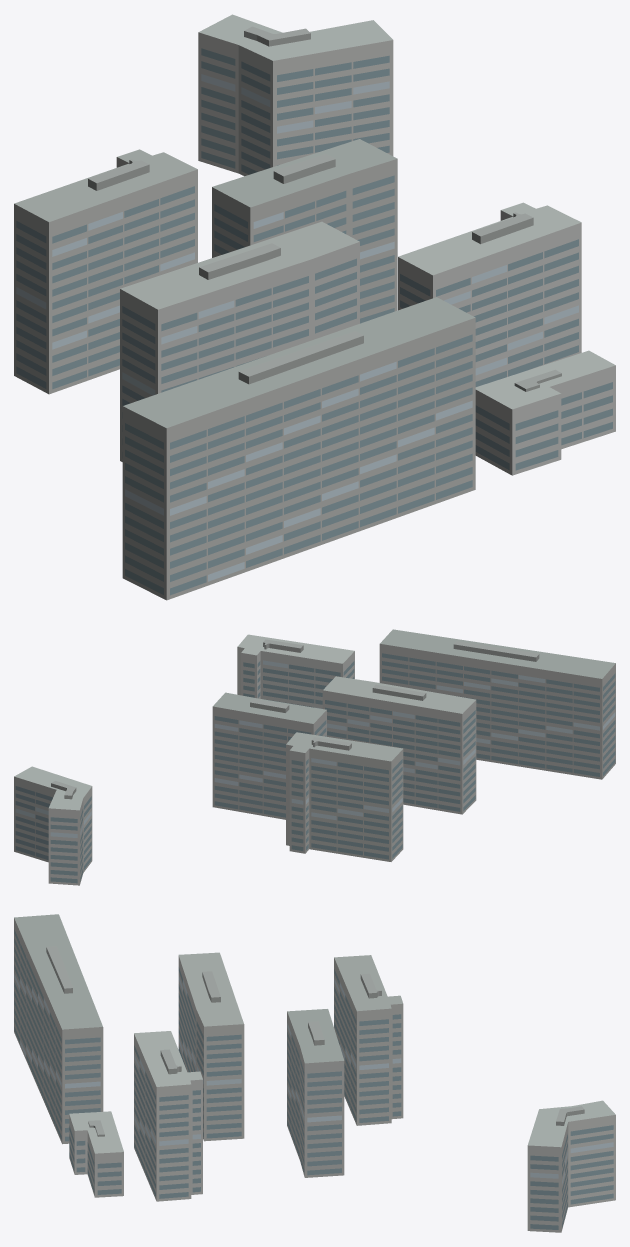
The model's file is apt-a13483803.glb.
3 views of the same model, one above another, from view 1: azimuth 30°, elevation 25°; view 2: azimuth 150°, elevation 25°; view 3: azimuth 270°, elevation 25° (orthographic). The views are drawn at different scales.
Visible parts, largest first — view 1: apt-a13483803; view 2: apt-a13483803; view 3: apt-a13483803.
Boxes of the visible parts, left/top/right/bottom form: apt-a13483803: left=14, top=14, right=615, bottom=600; apt-a13483803: left=14, top=629, right=615, bottom=885; apt-a13483803: left=14, top=914, right=615, bottom=1232.
Bounding box in the file's own units: 151 × 41.43 × 189.
